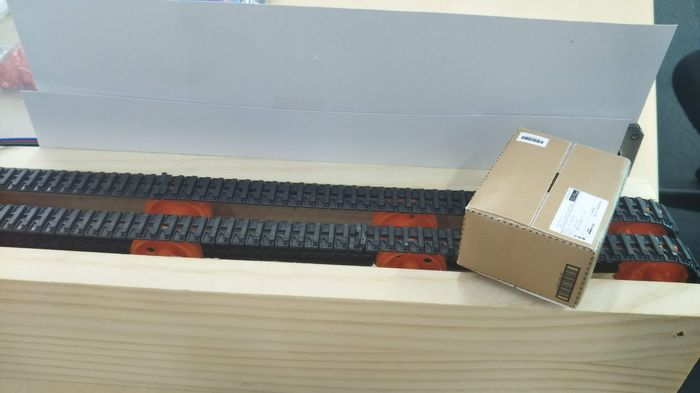box1: (452, 124, 632, 312)
